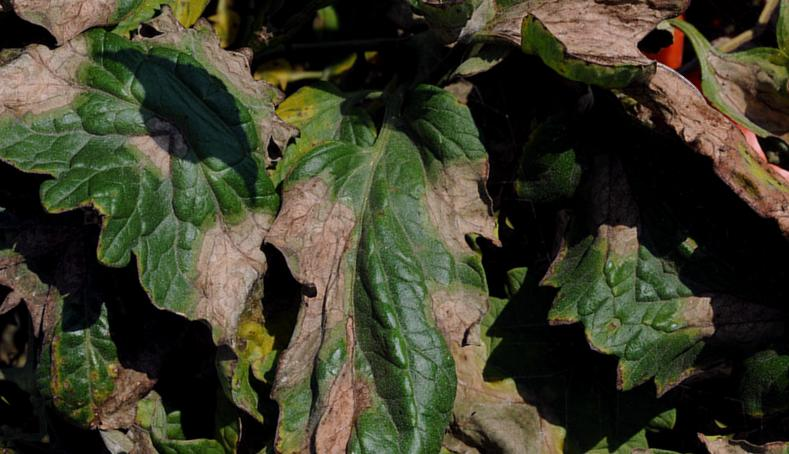Tomato leaf late blight: (106, 44, 663, 454), (64, 30, 415, 385), (461, 88, 739, 369), (401, 0, 773, 208), (326, 0, 603, 66), (130, 415, 387, 454)
